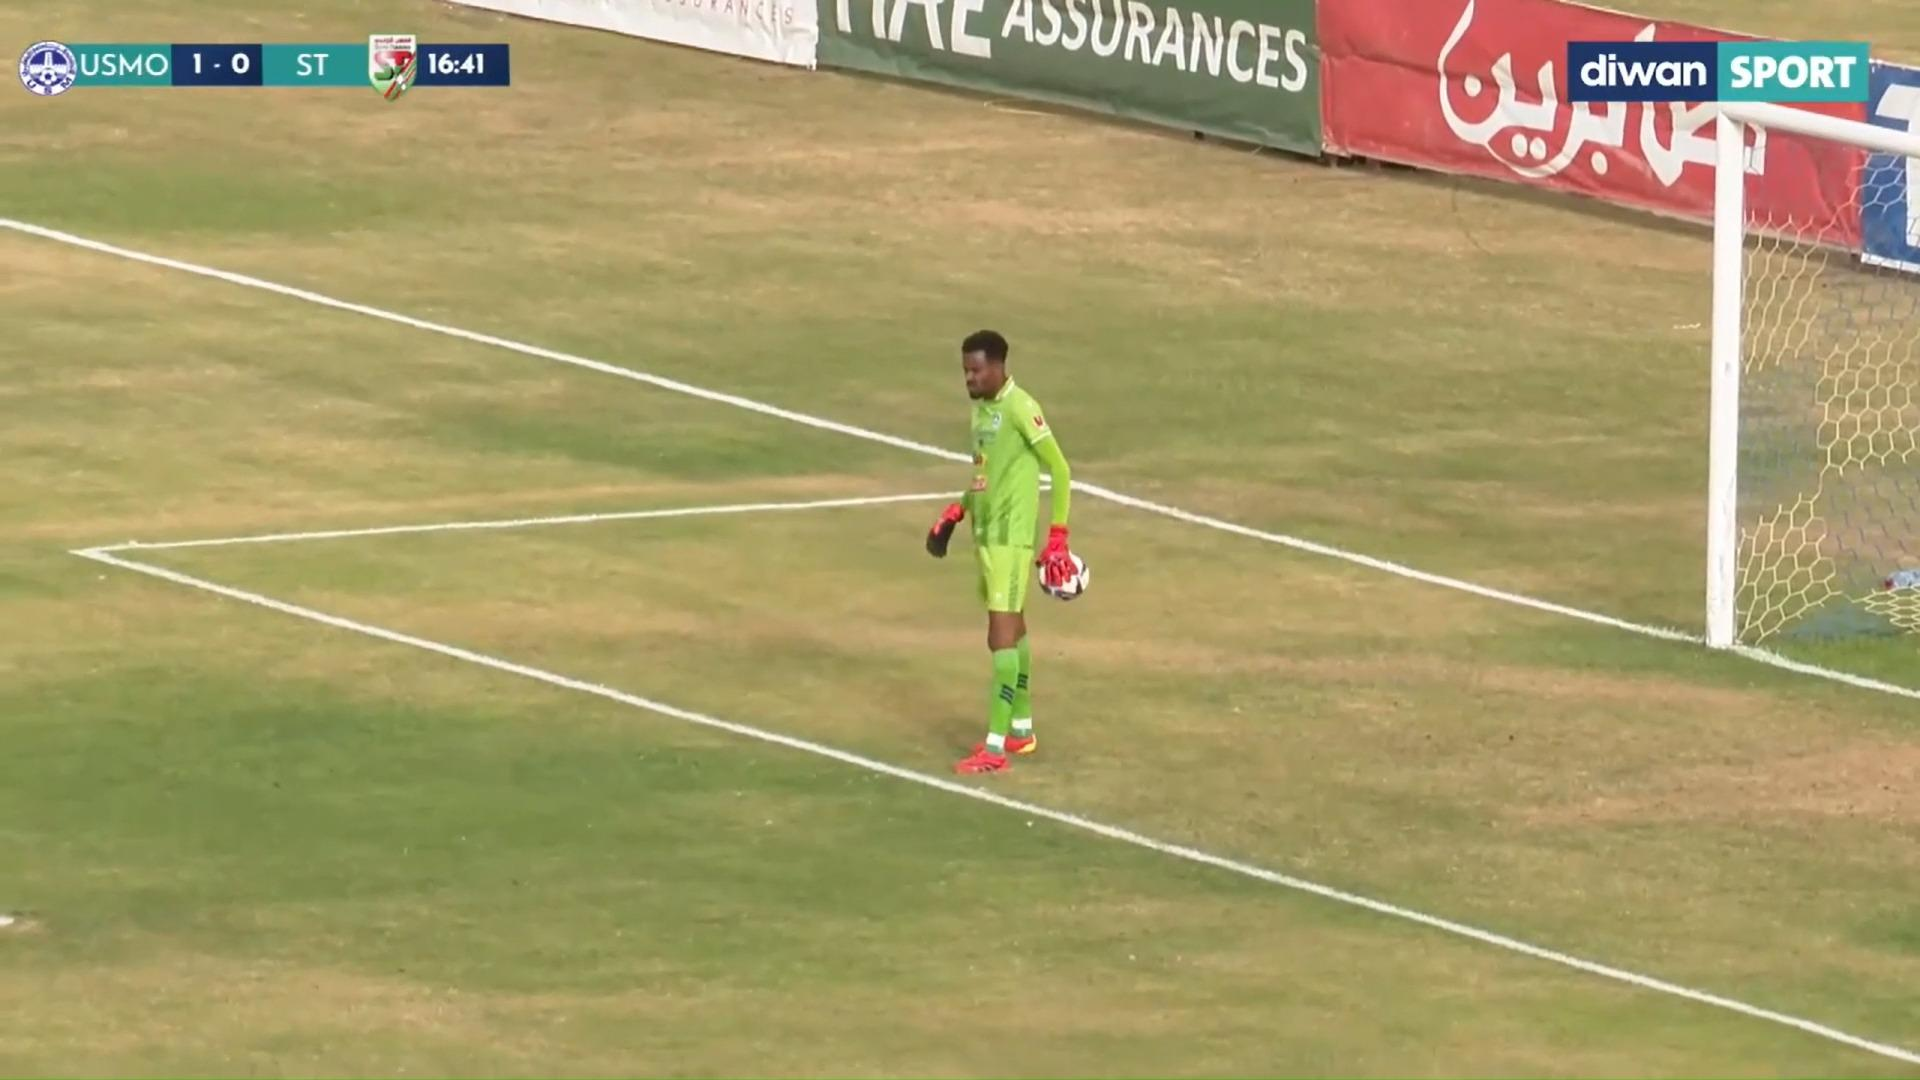ball: (1035, 530, 1092, 621)
goalkeeper: (864, 277, 1145, 806)
